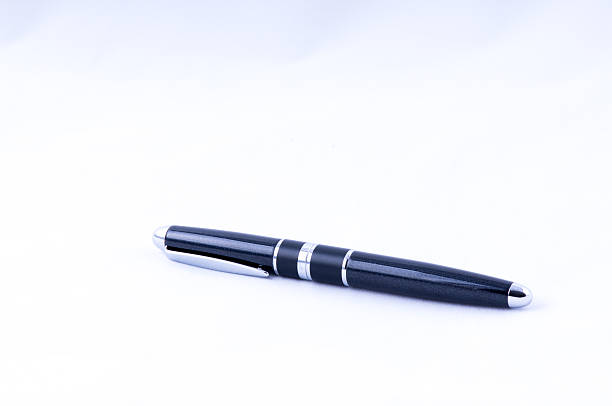pen: (140, 214, 543, 326)
